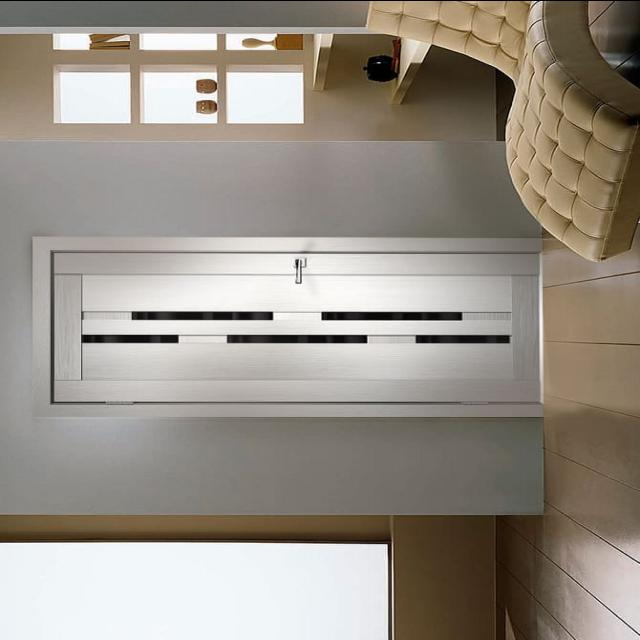close: (51, 252, 547, 414)
